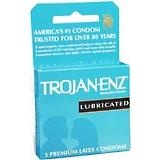grozi_102: (30, 2, 130, 160)
